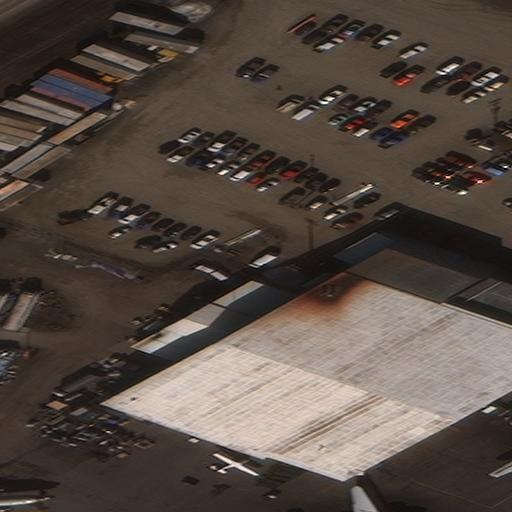Small Civil Transport: (214, 452, 258, 474)
